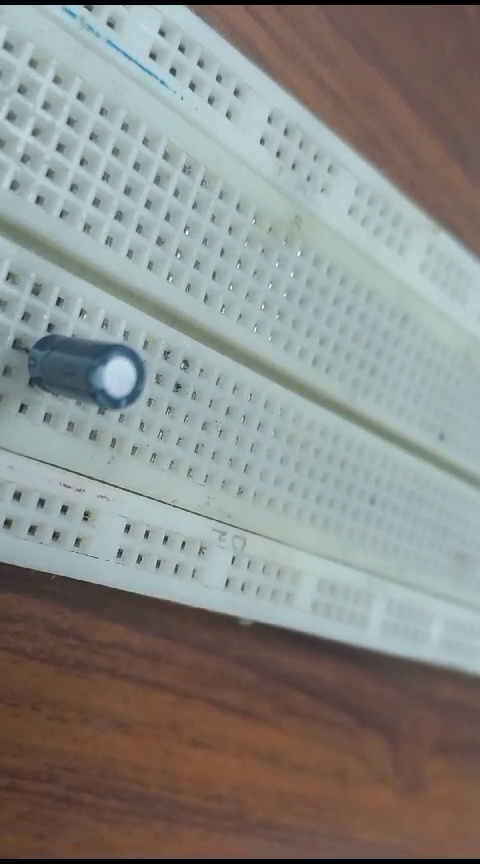capacitor: (12, 317, 142, 416)
